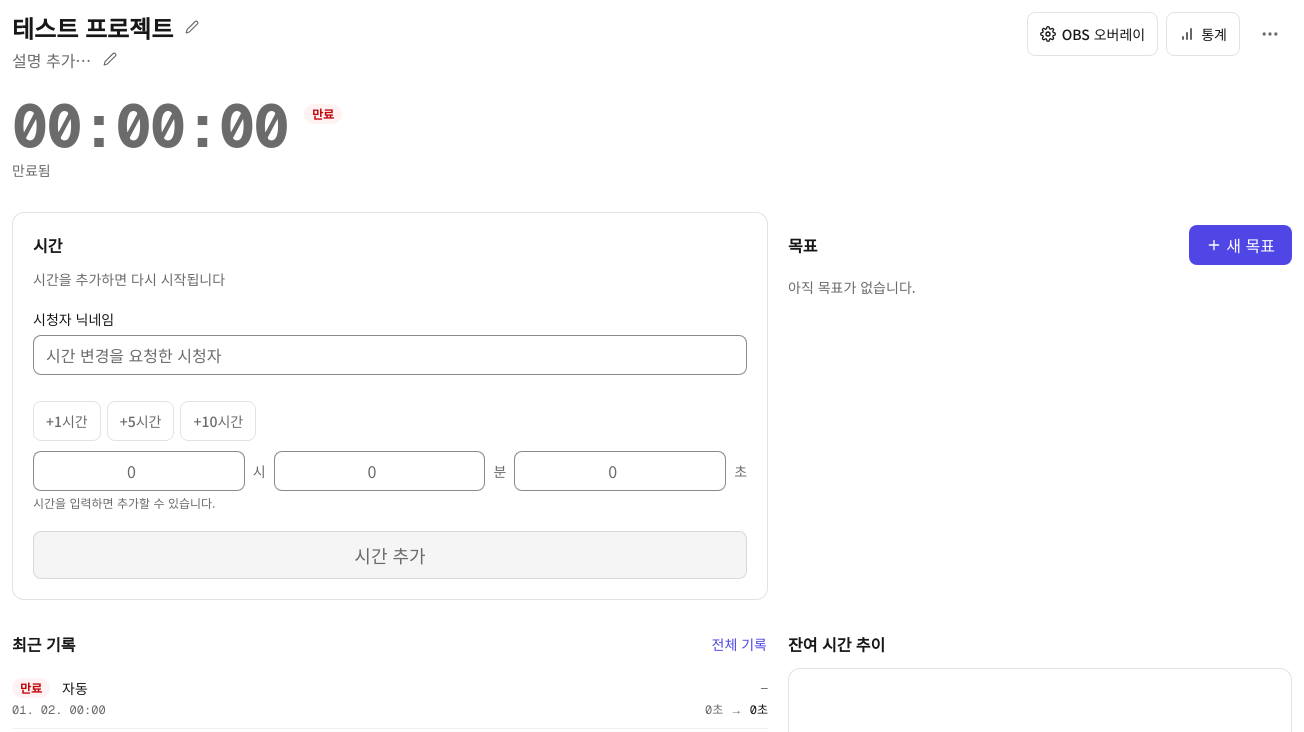
Test case: 프로젝트 콘솔 › 더보기 메뉴는 Escape로 닫히고 포커스가 버튼으로 돌아간다
Click the button named "더보기" at (1270, 34), box [1248, 12, 1292, 56]
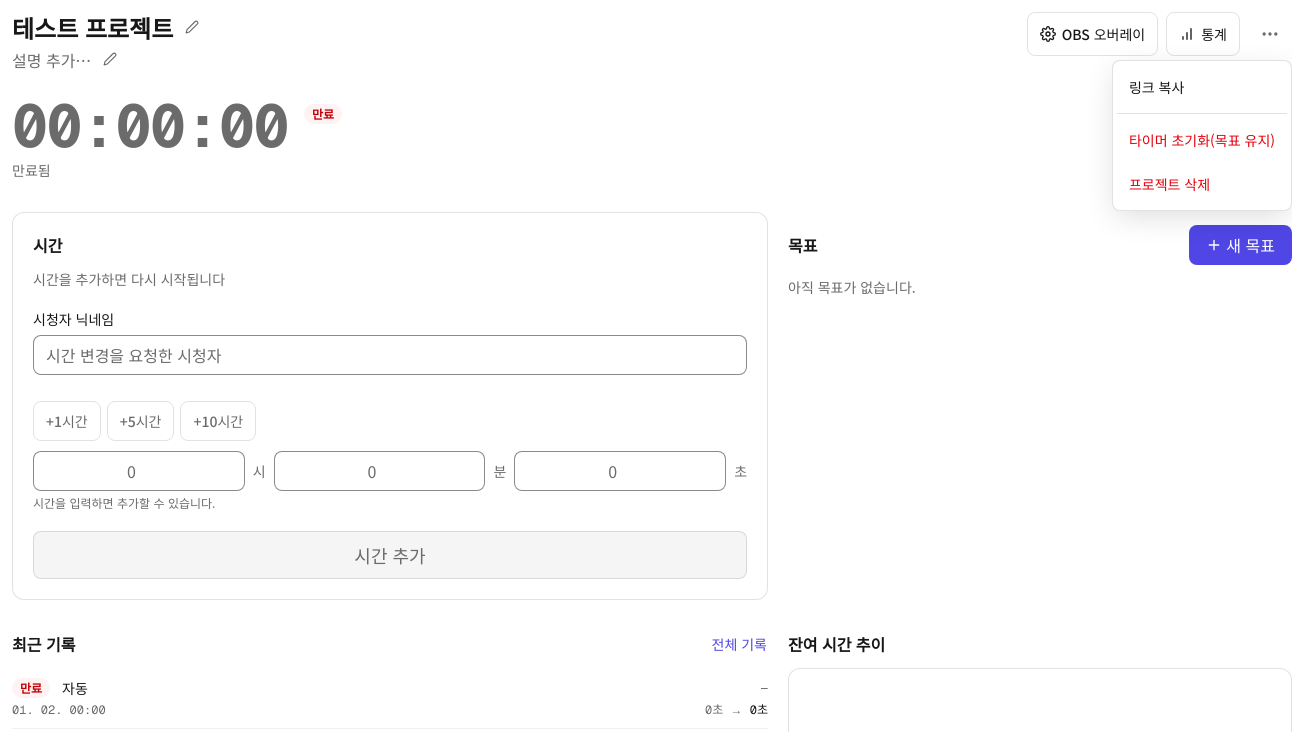
Expected: the button "프로젝트 삭제" is shown, [1117, 162, 1287, 206]
Press Escape
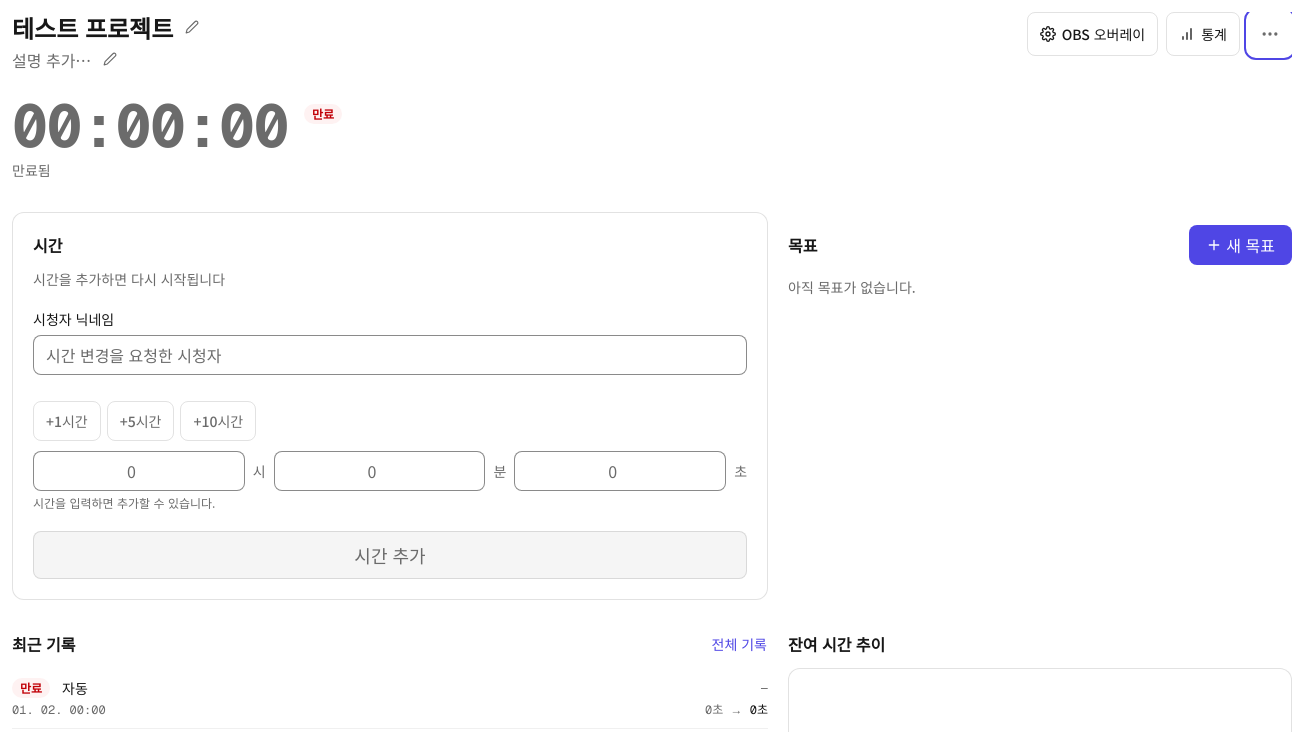
Expected: the button "프로젝트 삭제" is gone
